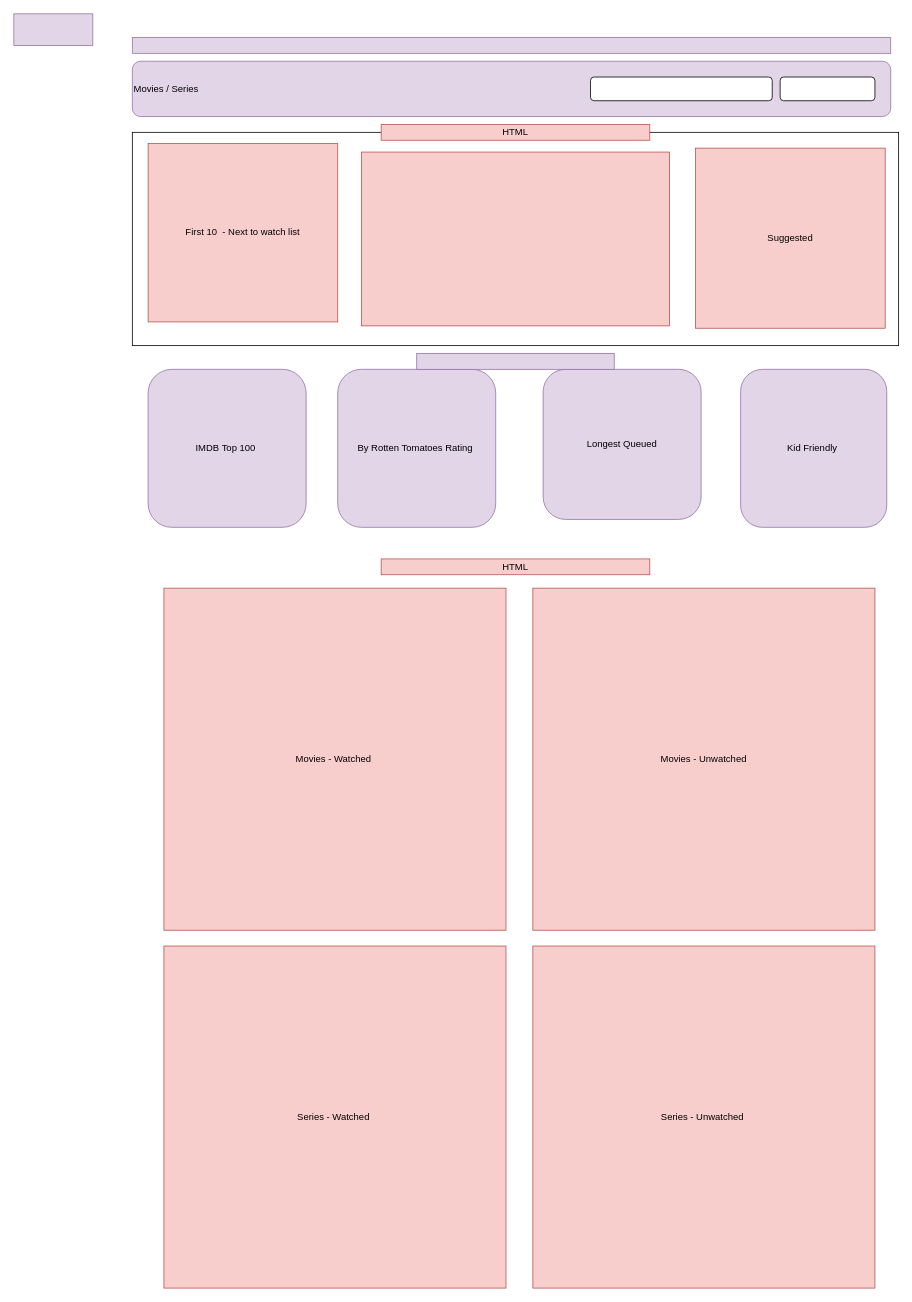
Some shapes in this 912 by 1302 pixel diagram are drawn without their labels. Each missing label, with the centre of its shape:
Bootstrap Cards: pixel 515 361
Bootstrap Nav Bar: pixel 511 45
Buttons - Bootstrap: pixel 53 29
Metrics - total hours watched: pixel 515 238
Quick Add: pixel 827 88
Search Bar: pixel 681 88
